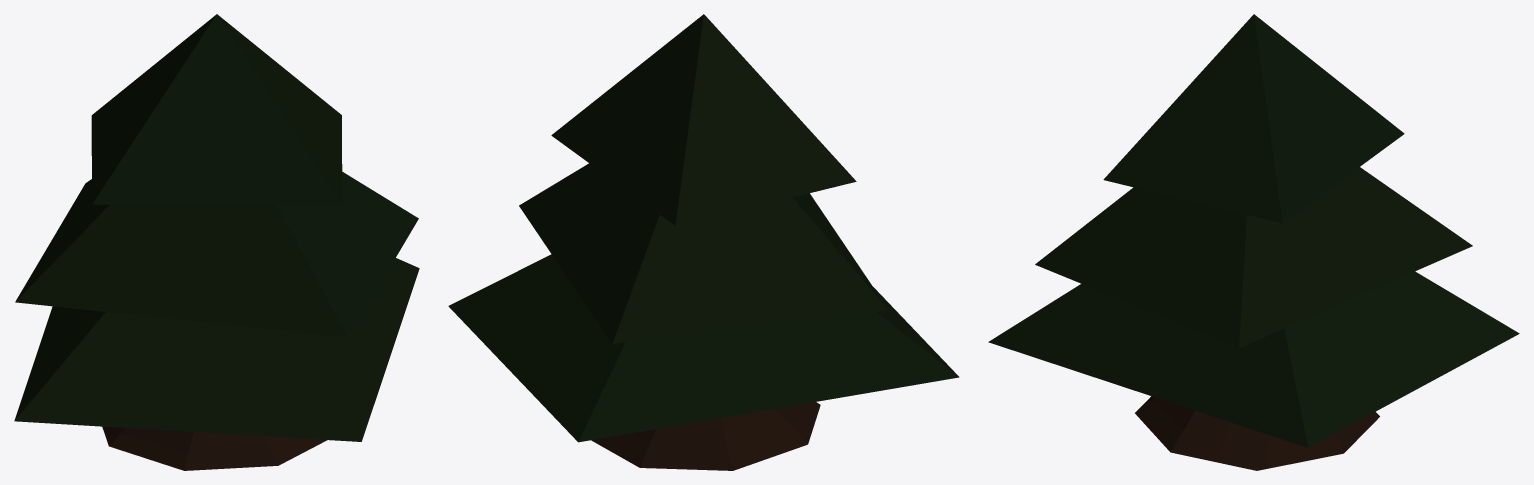
The model's file is Arvore1.FBX.
3 views of the same model, side by side, from view 1: azimuth 30°, elevation 25°; view 2: azimuth 150°, elevation 25°; view 3: azimuth 270°, elevation 25° (orthographic). The views are drawn at different scales.
Parts seen in each view (by area): view 1: Object001, Pyramid001, Object002, Cone001; view 2: Pyramid001, Object001, Object002, Cone001; view 3: Pyramid001, Object001, Object002, Cone001.
Boxes of the visible parts, <box> form: Object001: <box>15,172,418,337</box>; Pyramid001: <box>14,258,419,441</box>; Object002: <box>91,14,342,204</box>; Cone001: <box>102,426,327,470</box>; Pyramid001: <box>448,254,959,442</box>; Object001: <box>519,163,888,343</box>; Object002: <box>551,14,856,225</box>; Cone001: <box>591,402,820,470</box>; Pyramid001: <box>988,271,1519,447</box>; Object001: <box>1035,167,1472,347</box>; Object002: <box>1103,14,1404,223</box>; Cone001: <box>1135,396,1379,470</box>.
Bounding box in the file's own units: 62.78 × 53.5 × 64.09.
